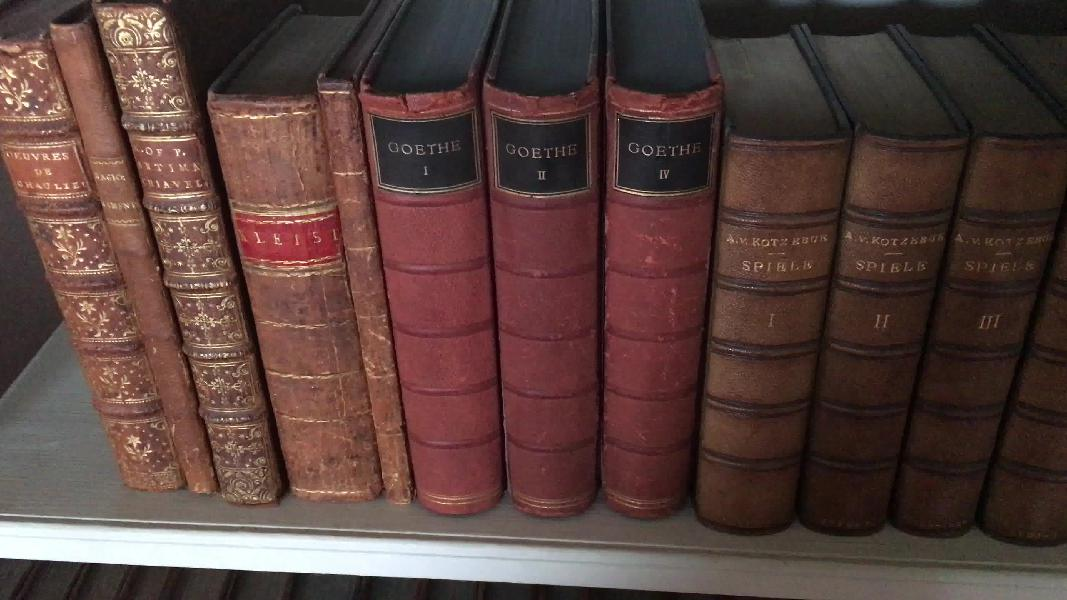Aa6-10: (314, 82, 423, 513)
Aa6-11_13: (346, 89, 701, 537)
Aa6-14_17: (689, 116, 1067, 550)
Aa6-6: (2, 37, 184, 496)
Aa6-7: (48, 20, 215, 495)
Aa6-8: (83, 4, 292, 514)
Aa6-9: (199, 84, 382, 506)
